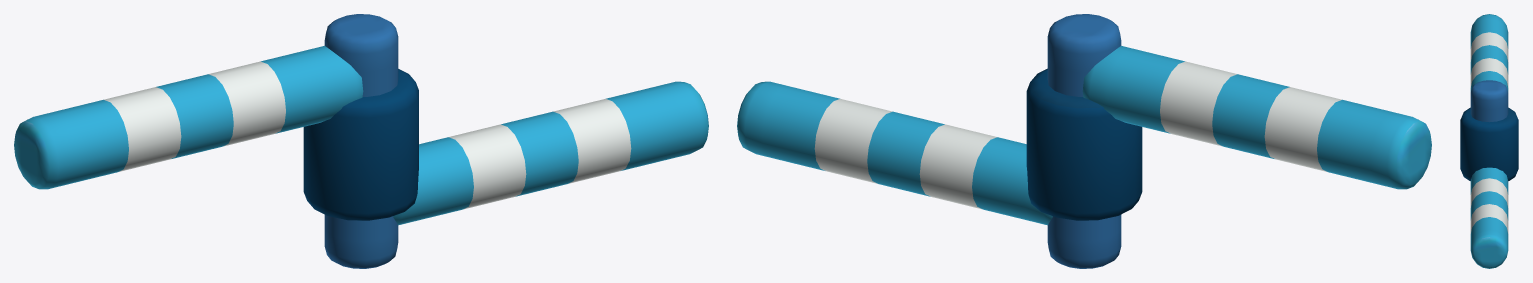
File: candy_platform2.fbx
3 renders of one model, left to right at view 1: azimuth 30°, elevation 25°; view 2: azimuth 150°, elevation 25°; view 3: azimuth 270°, elevation 25°, orthographic. The views are drawn at different scales.
Parts seen in each view (by area): view 1: candy_platform2; view 2: candy_platform2; view 3: candy_platform2.
Boxes of the visible parts, left/top/right/bottom form: candy_platform2: left=14, top=14, right=708, bottom=268; candy_platform2: left=737, top=14, right=1431, bottom=268; candy_platform2: left=1460, top=14, right=1518, bottom=268.
Bounding box in the file's own units: 575 × 190 × 87.1.
1 material, 1 textured.
